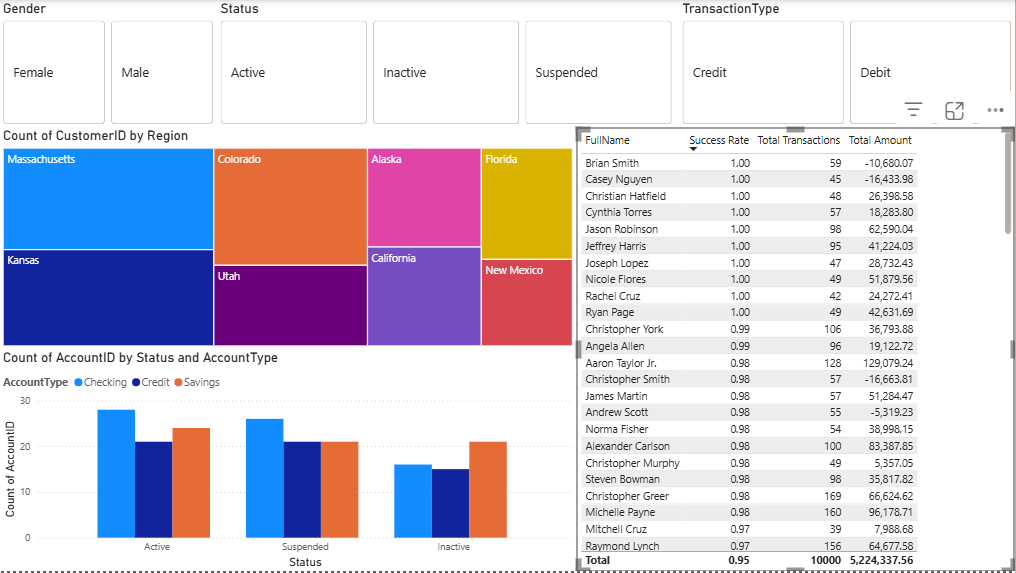

What the dashboard file says about the page in this screenshot:
{"tool":"powerbi","page":{"name":"Customer & Account Insights","canvas":[1280,720],"ordinal":1},"visuals":[{"type":"clusteredColumnChart","fields":{"Category":["DimCustomer.Status"],"Series":["DimAccount.AccountType"],"Y":["CountNonNull(DimAccount.AccountID)"]},"box":[0,440.8,727.1,279.8],"z":0},{"type":"treemap","fields":{"Group":["DimCustomer.Region"],"Values":["CountNonNull(DimCustomer.CustomerID)"]},"box":[0,161,727.1,279.8],"z":1},{"type":"tableEx","fields":{"Values":["DimCustomer.FullName","DimAccount.Success Rate","DimAccount.Total Transactions","DimAccount.Total Amount"]},"box":[727.1,161,553,559.5],"z":2},{"type":"advancedSlicerVisual","fields":{"Values":["DimCustomer.Gender"]},"box":[0,0,274.9,161],"z":3},{"type":"advancedSlicerVisual","fields":{"Values":["DimCustomer.Status"]},"box":[274.9,0,580.7,161],"z":4},{"type":"advancedSlicerVisual","fields":{"Values":["FactTransaction.TransactionType"]},"box":[855.6,0,424.5,161],"z":5}]}

Visuals, with their boxes in screenshot pixels (x1, y1, x2, y2), scaled from the page's 1280x720 canvas onto the 1016x573 screenshot:
clusteredColumnChart - DimCustomer.Status x DimAccount.AccountType: bbox=[0, 351, 577, 572]
treemap - DimCustomer.Region x CountNonNull(DimCustomer.CustomerID): bbox=[0, 128, 577, 351]
tableEx - DimCustomer.FullName x DimAccount.Success Rate: bbox=[577, 128, 1015, 572]
advancedSlicerVisual - DimCustomer.Gender: bbox=[0, 0, 218, 128]
advancedSlicerVisual - DimCustomer.Status: bbox=[218, 0, 679, 128]
advancedSlicerVisual - FactTransaction.TransactionType: bbox=[679, 0, 1015, 128]
